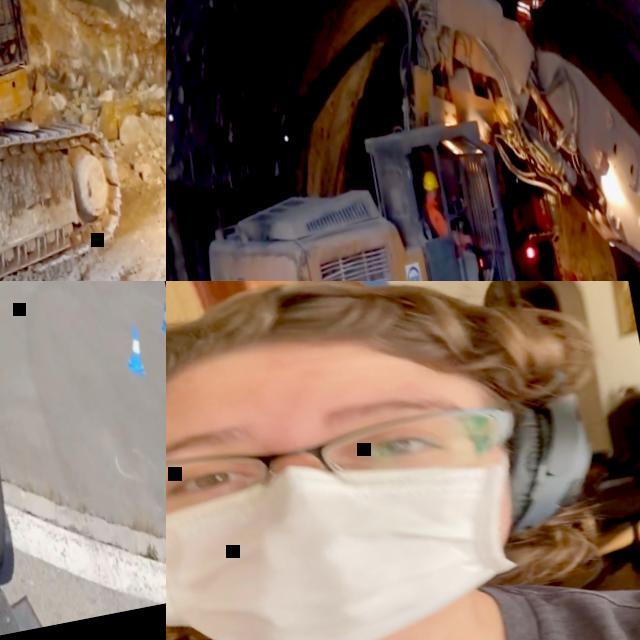helmet: (422, 171, 439, 191)
vest: (422, 194, 449, 239)
